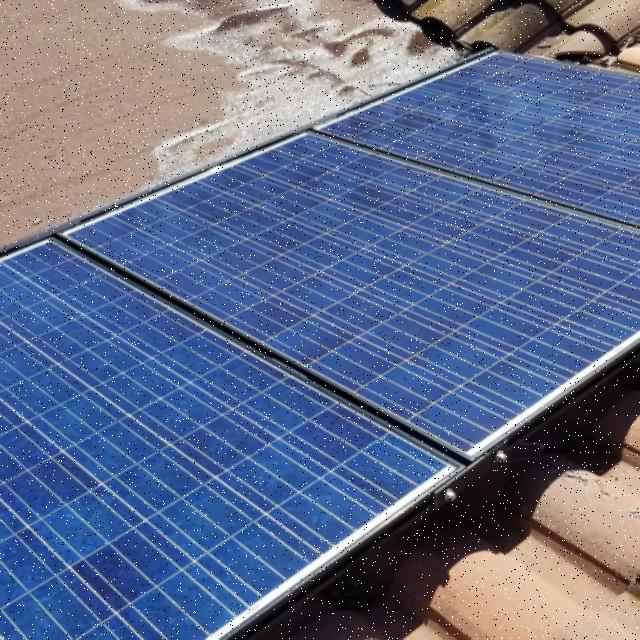clean: (12, 55, 640, 635)
